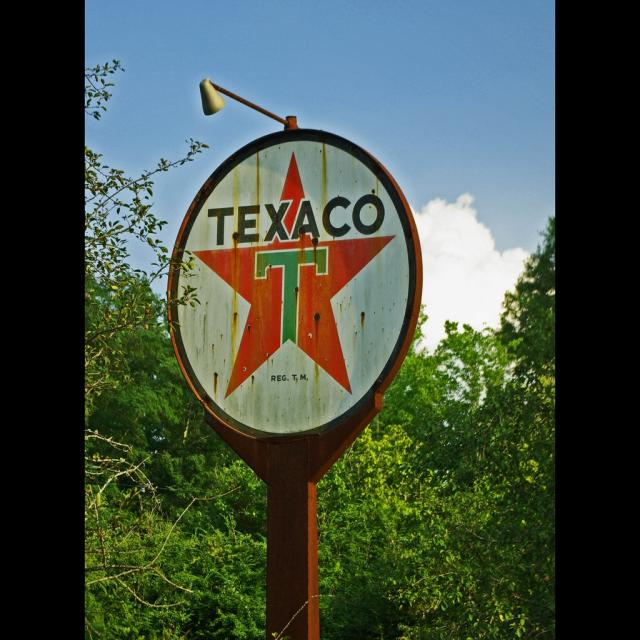texaco: (176, 140, 415, 436)
